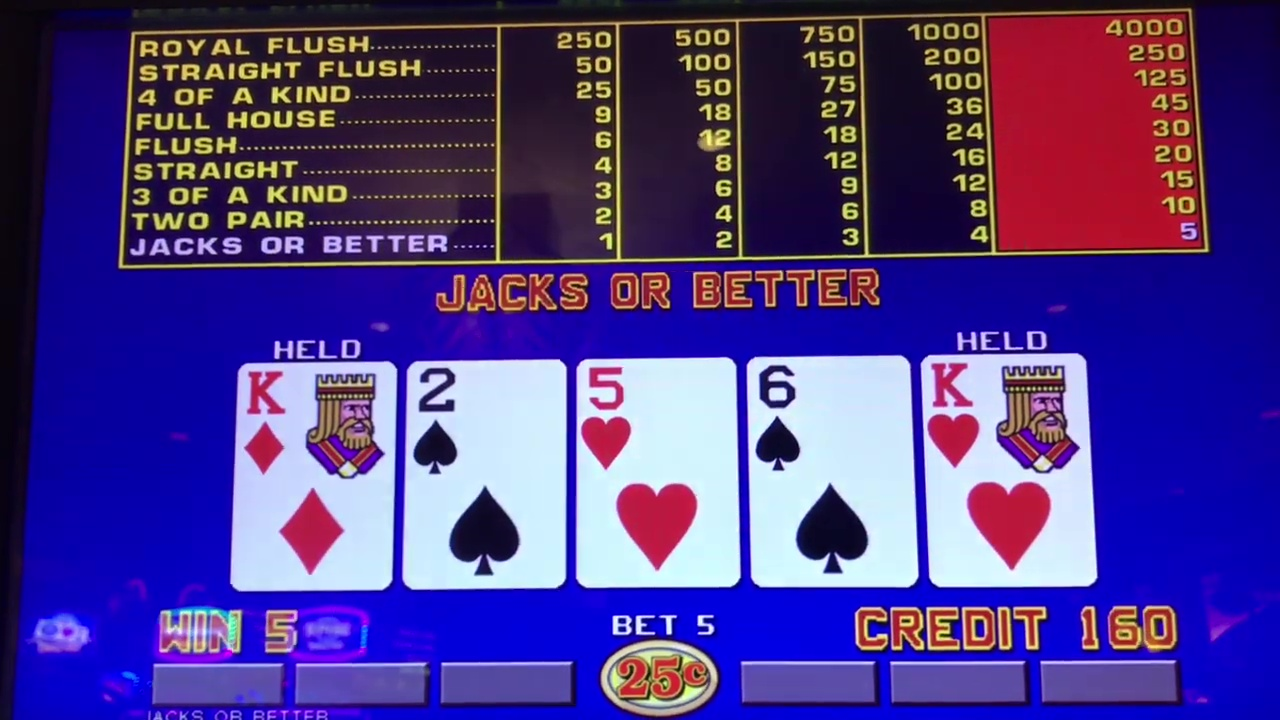DK: (244, 363, 388, 586)
H5: (581, 358, 733, 587)
HK: (933, 355, 1085, 585)
S2: (412, 362, 558, 586)
S6: (755, 359, 901, 587)
